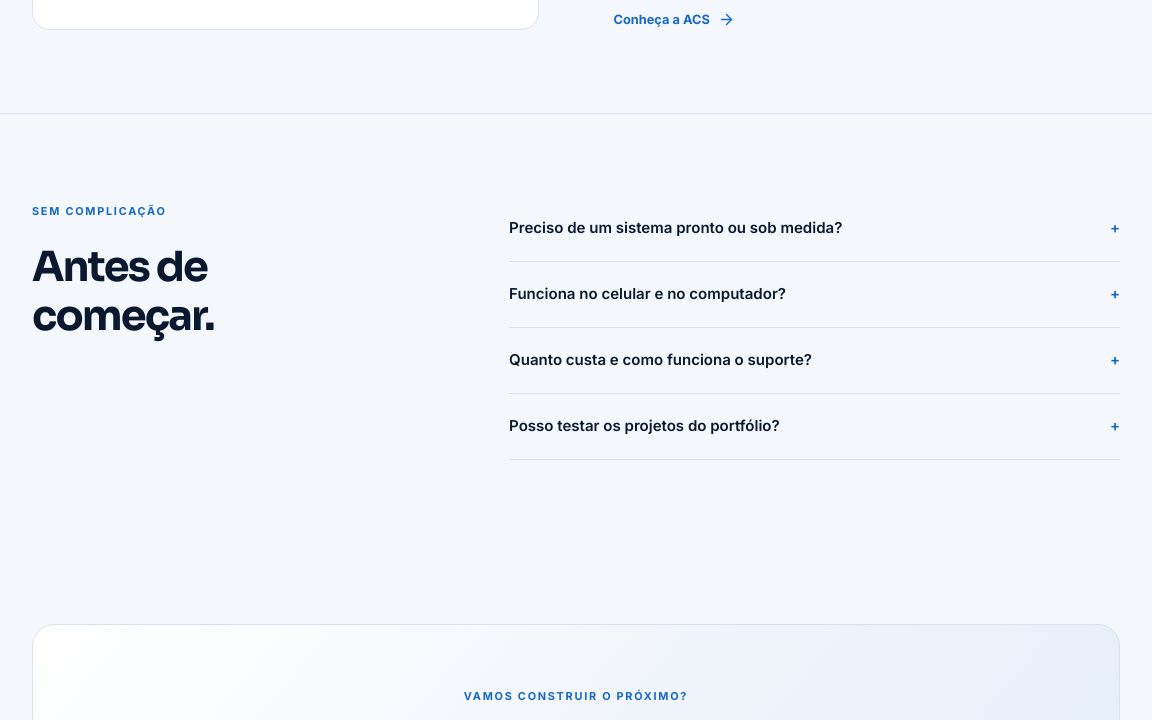
it: portfólio da página inicial › explica as condições comerciais ao abrir uma dúvida
(page scrolled)
Click the heading "Quanto custa e como funciona o suporte?": (815, 360) x1=509 y1=348 x2=1120 y2=373
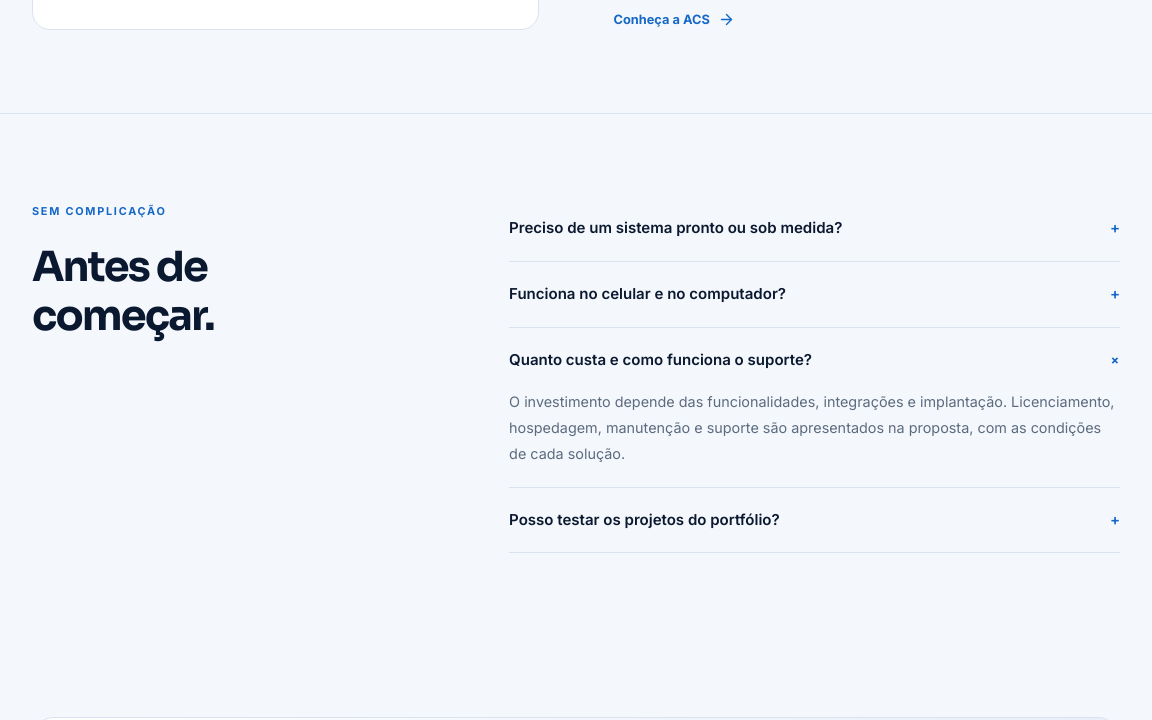
Expected: the text "Quanto custa e como funciona o suporte?" shows "Licenciamento, hospedagem, manutenção e suporte", x1=509 y1=393 x2=1114 y2=462
